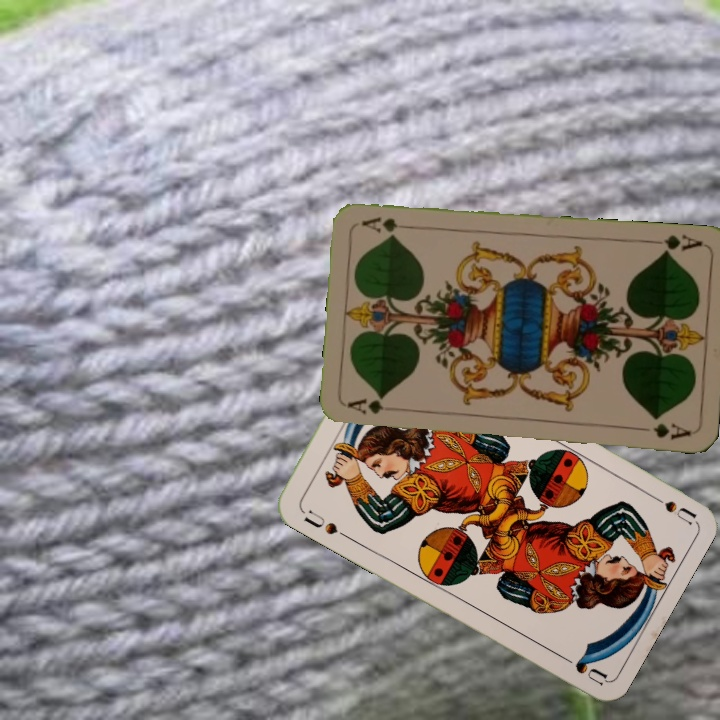GA: (645, 231, 705, 257), (344, 396, 386, 417)
SU: (641, 487, 698, 527), (300, 506, 351, 541)
